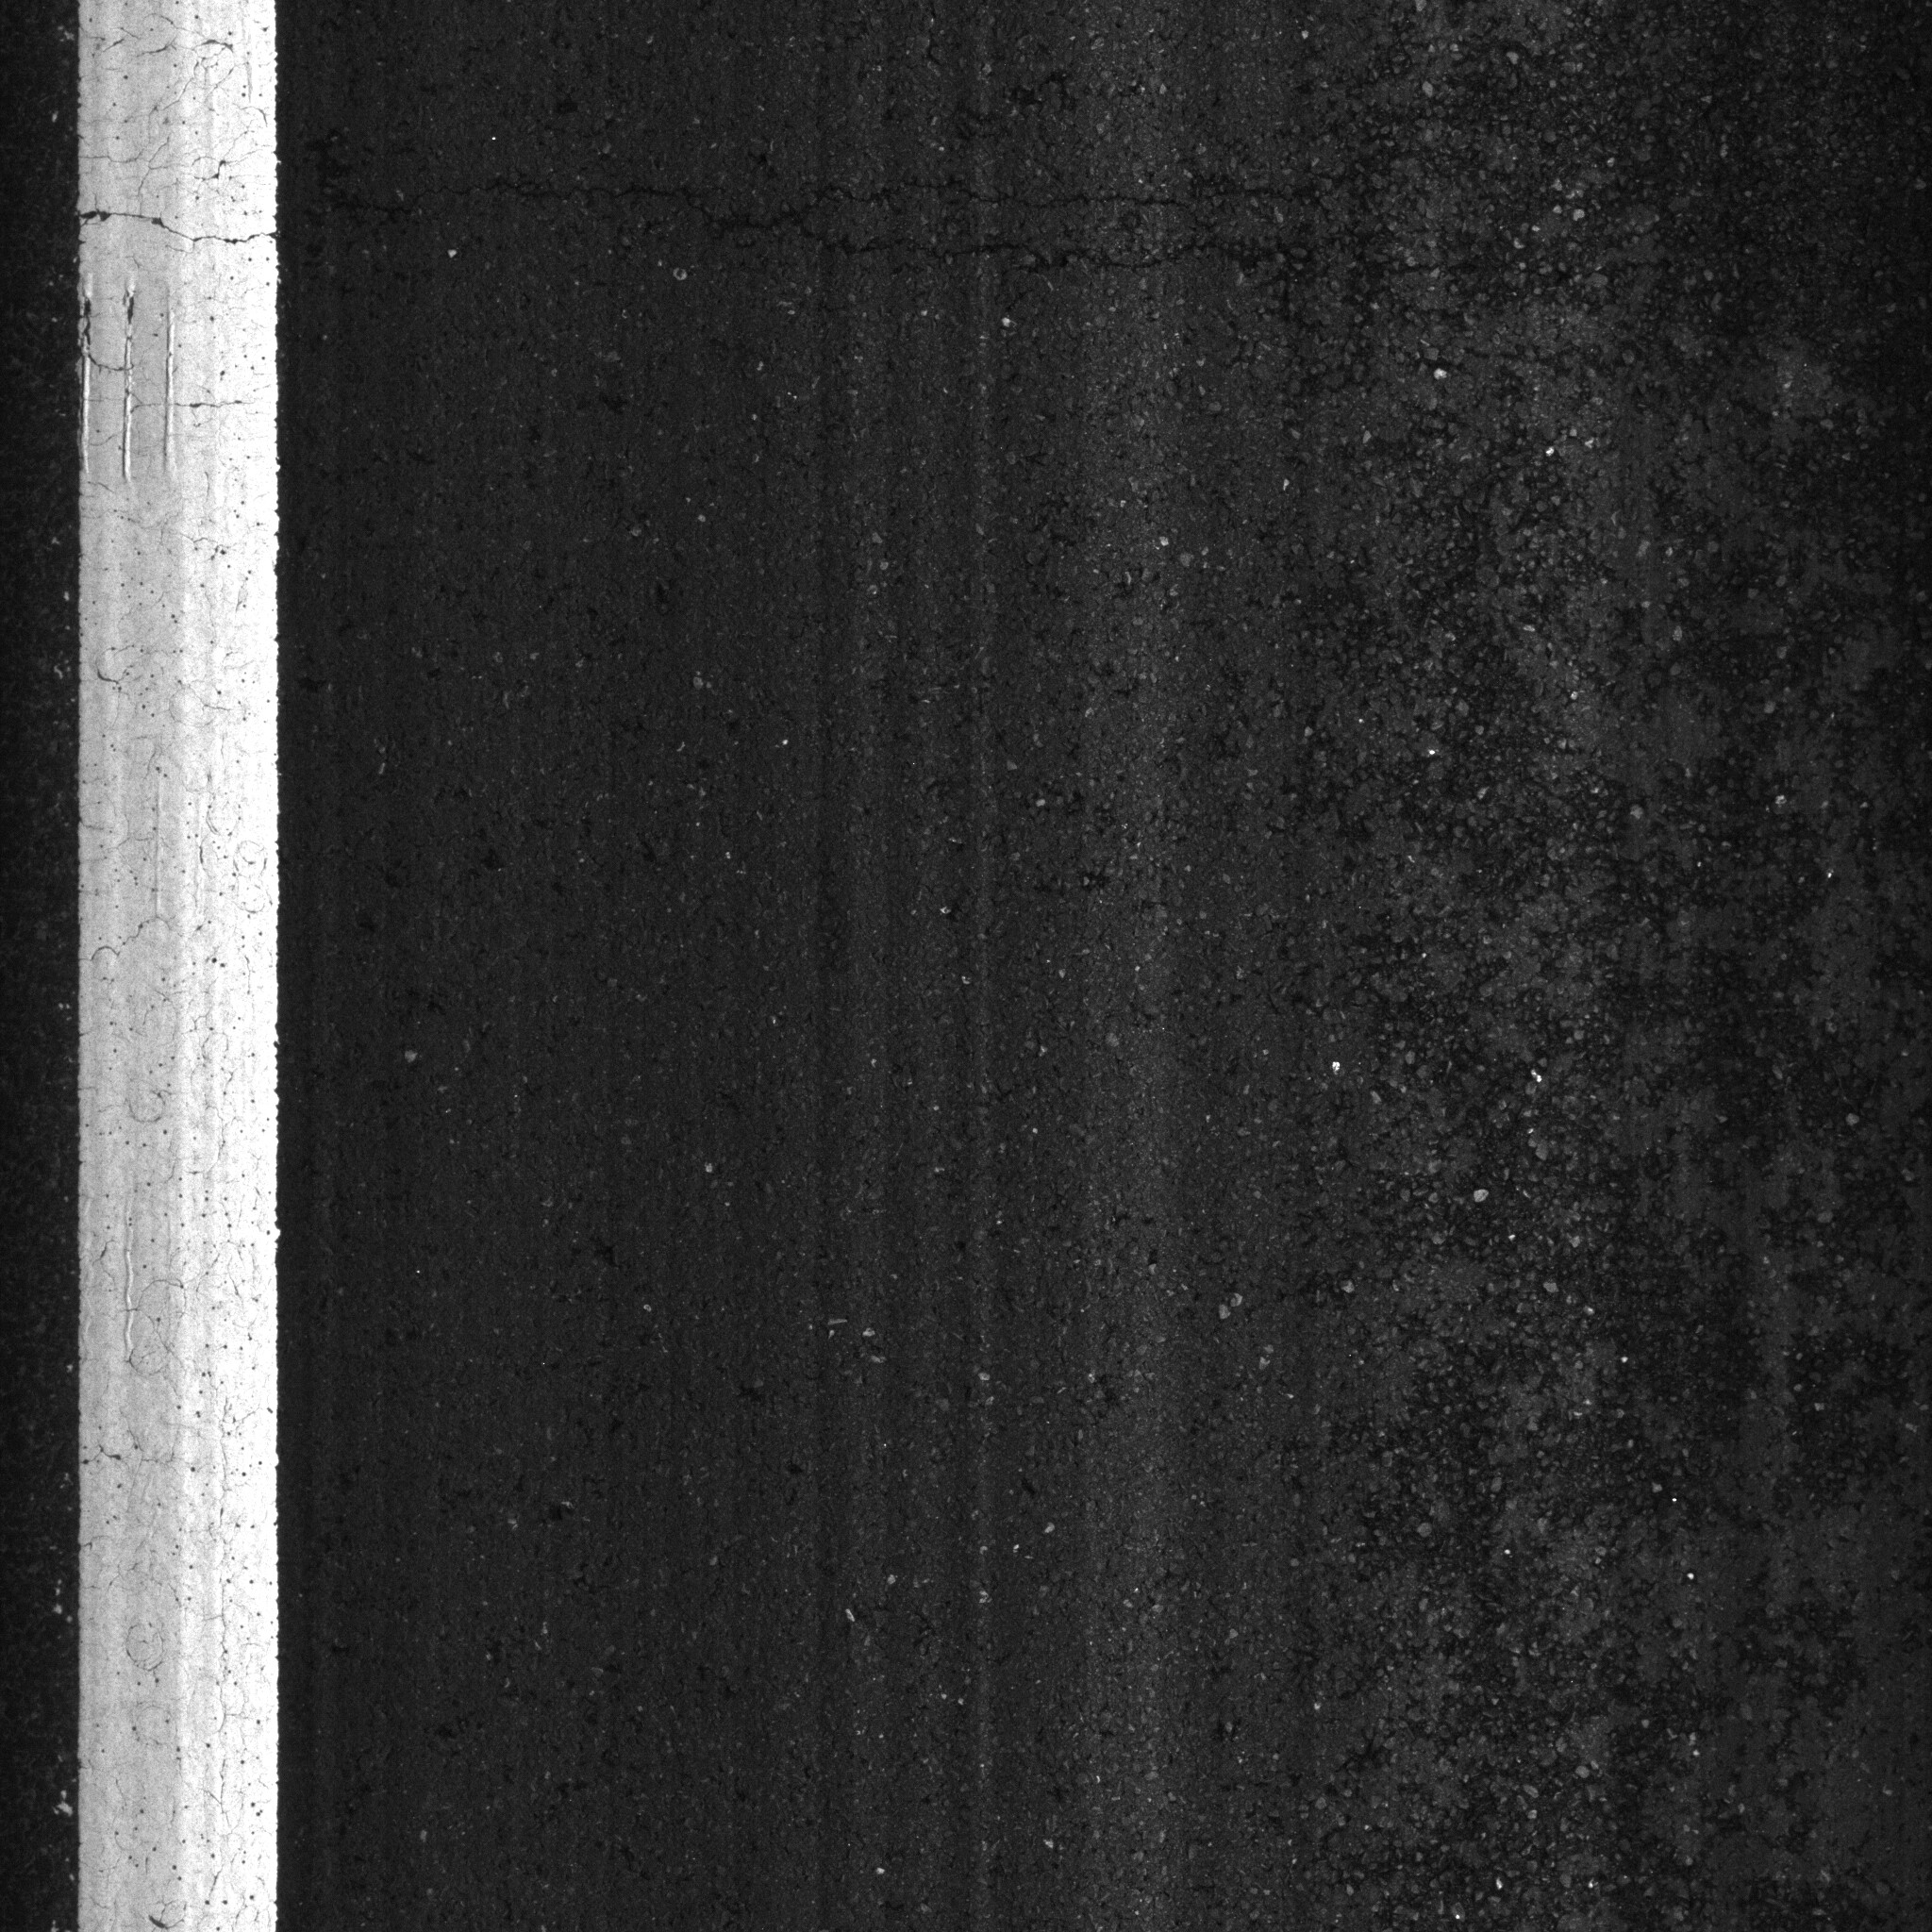transeverse: (58, 163, 1748, 322)
